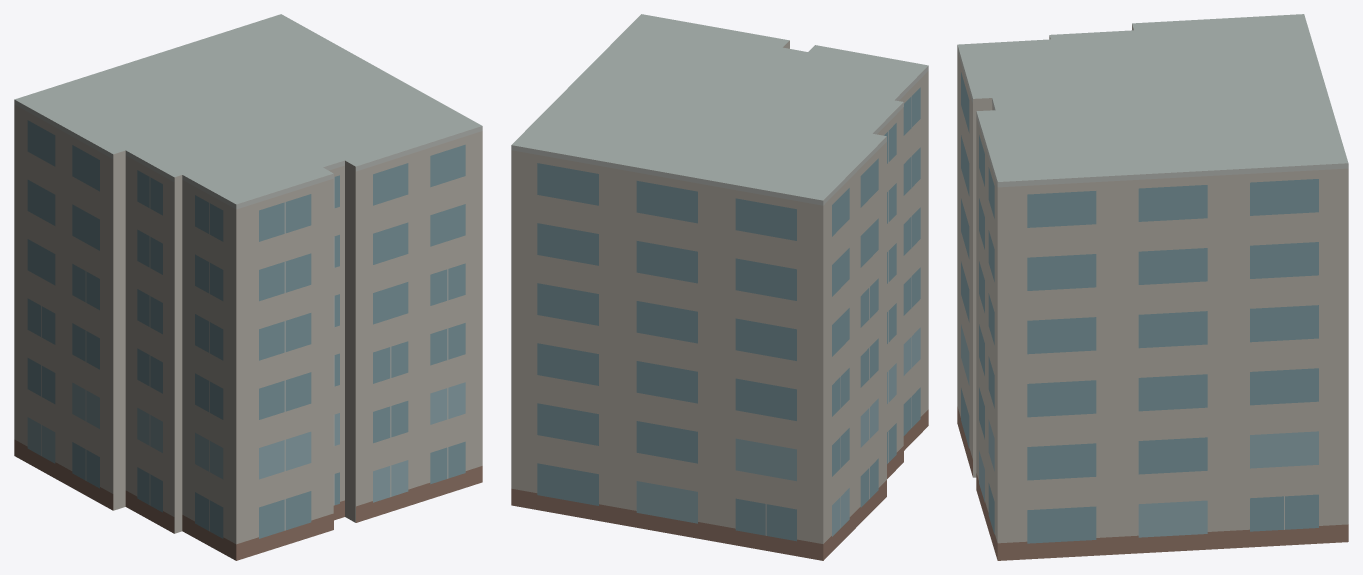
Rendered from survey-upis-32749355.glb.
3 renders of one model, left to right at view 1: azimuth 30°, elevation 25°; view 2: azimuth 150°, elevation 25°; view 3: azimuth 270°, elevation 25°, orthographic. The views are drawn at different scales.
Parts seen in each view (by area): view 1: survey-upis-32749355.tmp; view 2: survey-upis-32749355.tmp; view 3: survey-upis-32749355.tmp.
Boxes of the visible parts, box(x1,y1,x2,y2) form: survey-upis-32749355.tmp: box(14, 14, 482, 560); survey-upis-32749355.tmp: box(511, 14, 928, 560); survey-upis-32749355.tmp: box(957, 14, 1348, 560).
Size of the model in its own units: 16.57 by 17.4 by 16.29.
